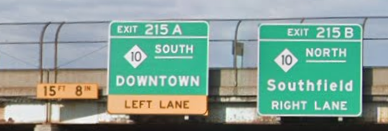1: (41, 84, 47, 98)
5: (47, 84, 56, 99)
8: (72, 84, 83, 98)
overheadsign: (35, 81, 98, 99)
